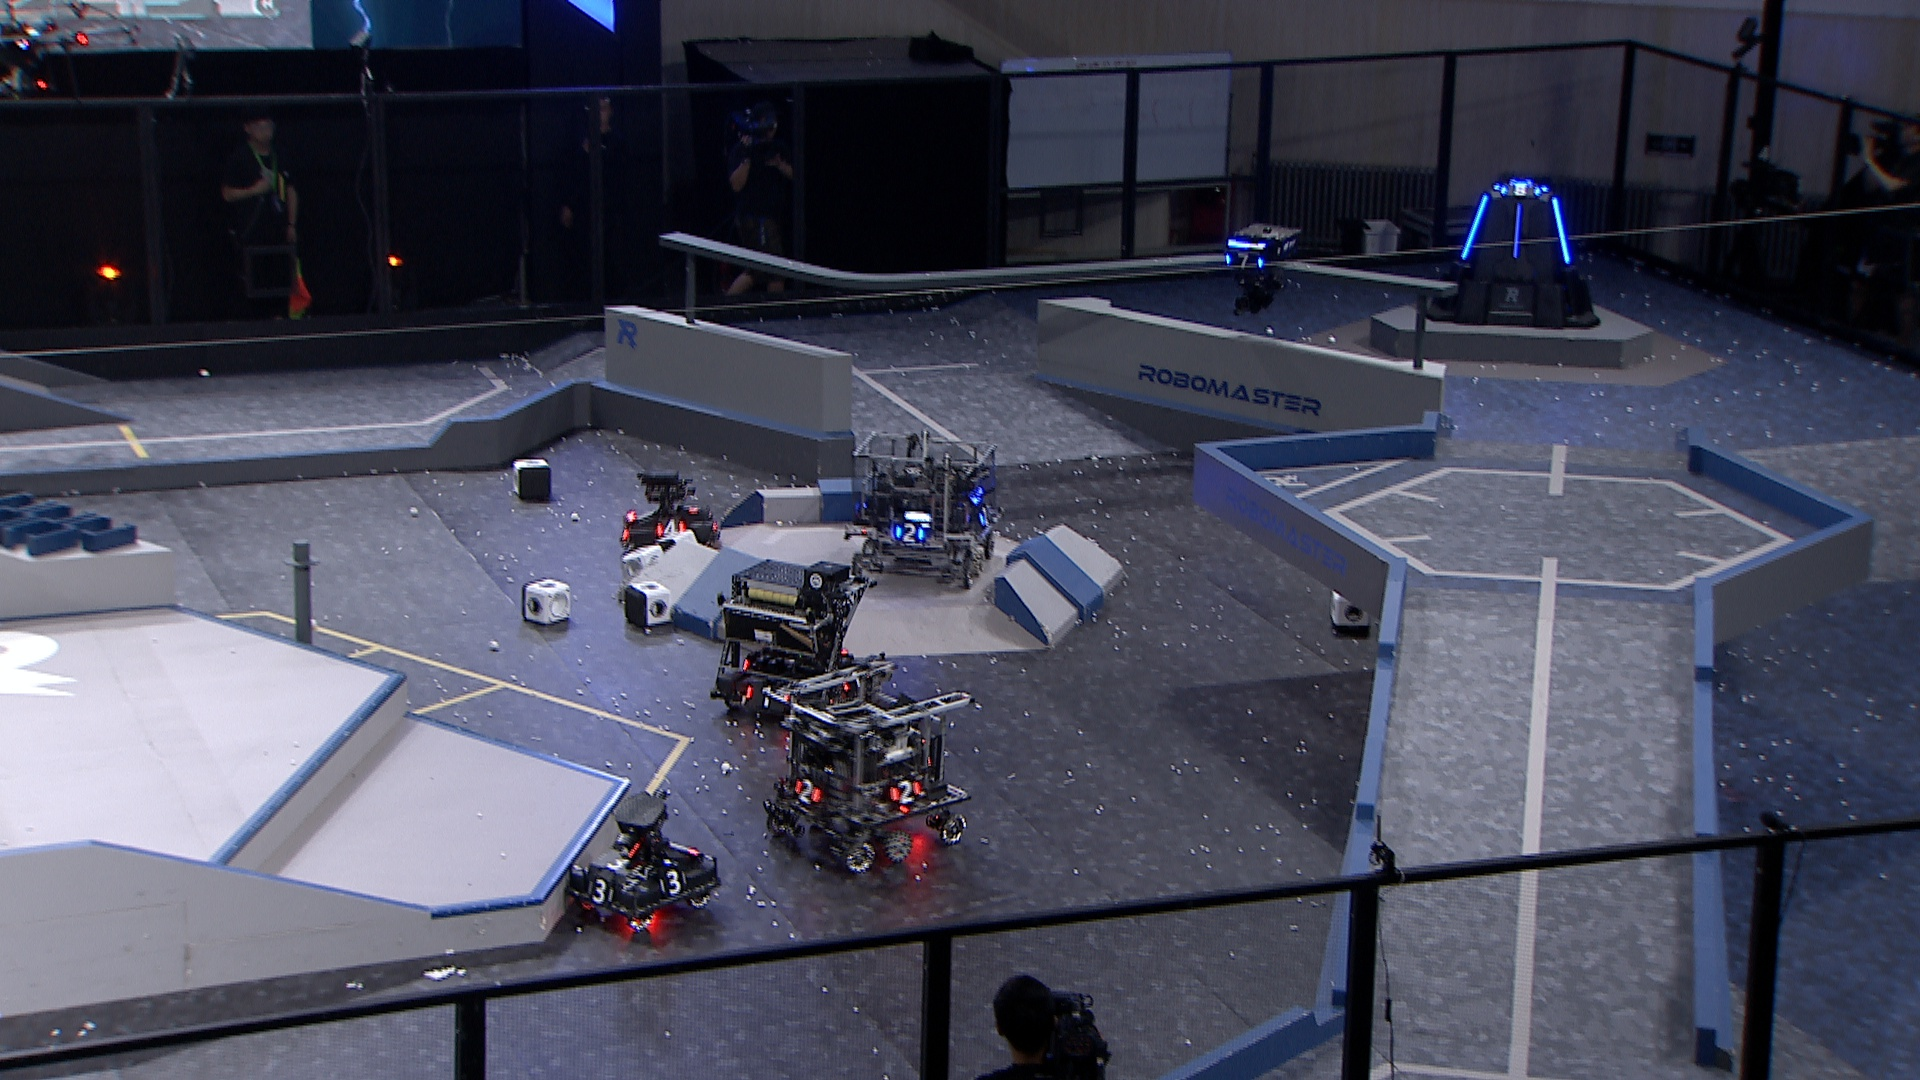armor: (1458, 194, 1493, 262), (1549, 196, 1575, 266), (744, 683, 782, 711), (889, 778, 922, 808), (584, 877, 618, 905), (1222, 252, 1267, 273), (655, 868, 688, 895), (889, 522, 928, 545), (793, 778, 822, 808), (1510, 204, 1524, 261), (597, 855, 641, 873), (1498, 183, 1543, 199), (651, 520, 684, 541), (975, 501, 994, 529)
base: (1419, 178, 1604, 334)
car: (760, 659, 971, 873), (707, 560, 874, 719), (841, 429, 1000, 589), (566, 789, 721, 930), (618, 467, 727, 556)
watcher: (1221, 223, 1304, 316)
